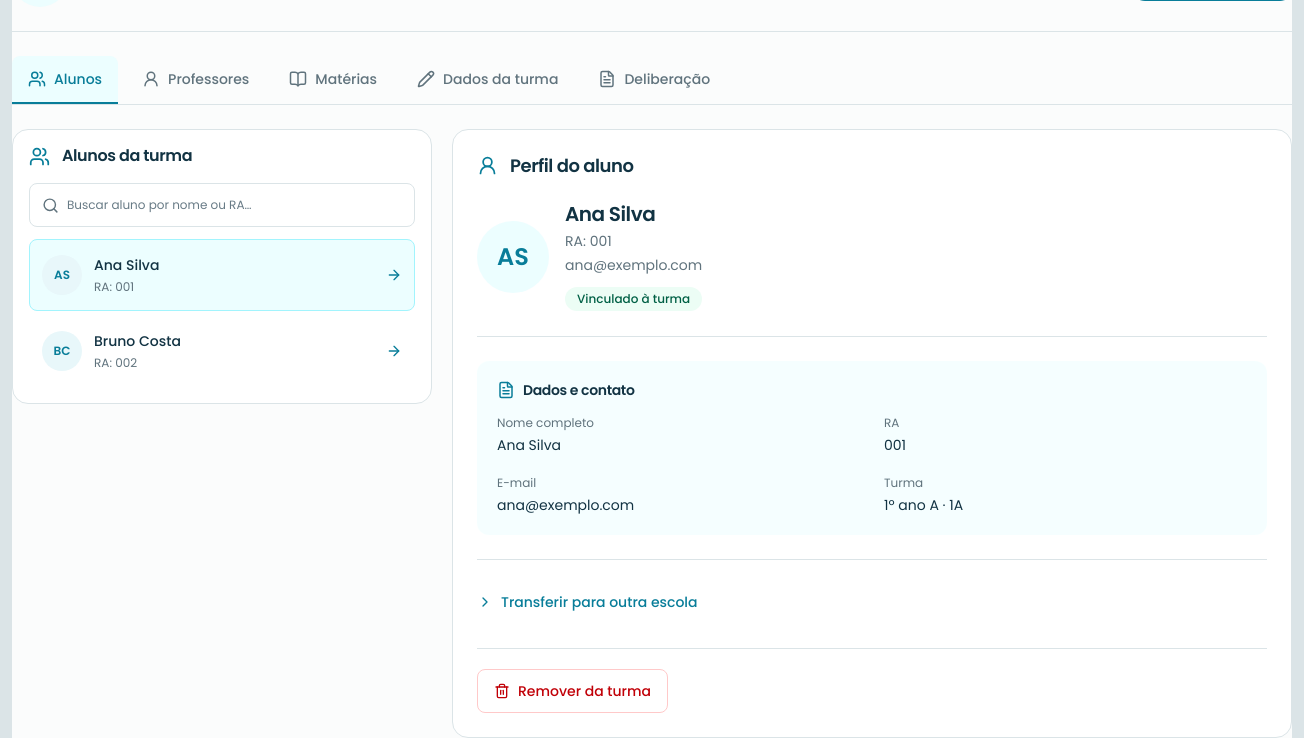
remove somente o vínculo do aluno selecionado e atualiza a lista
(page scrolled)
Click the button "Remover da turma". click: click(572, 691)
box: [477,669,668,713]
(page scrolled)
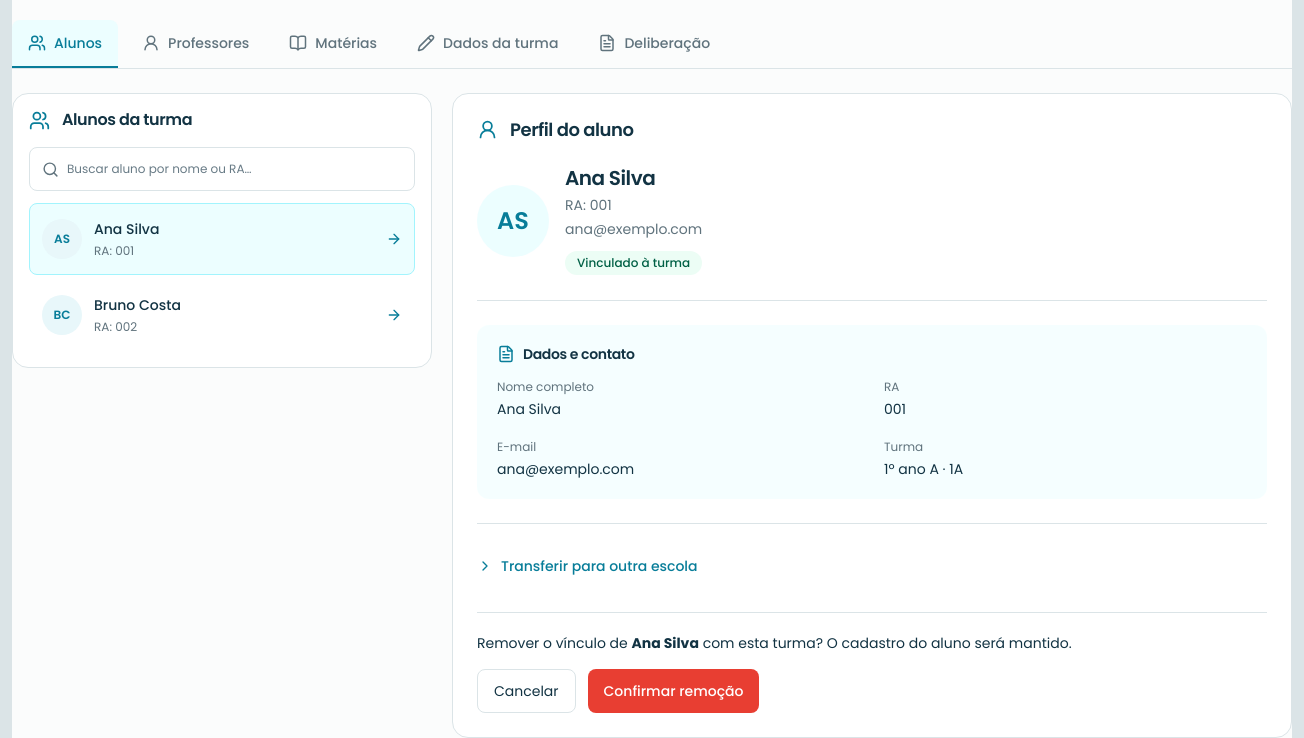
Click the button "Confirmar remoção". click: click(673, 691)
box: [588,669,759,713]
(page scrolled)
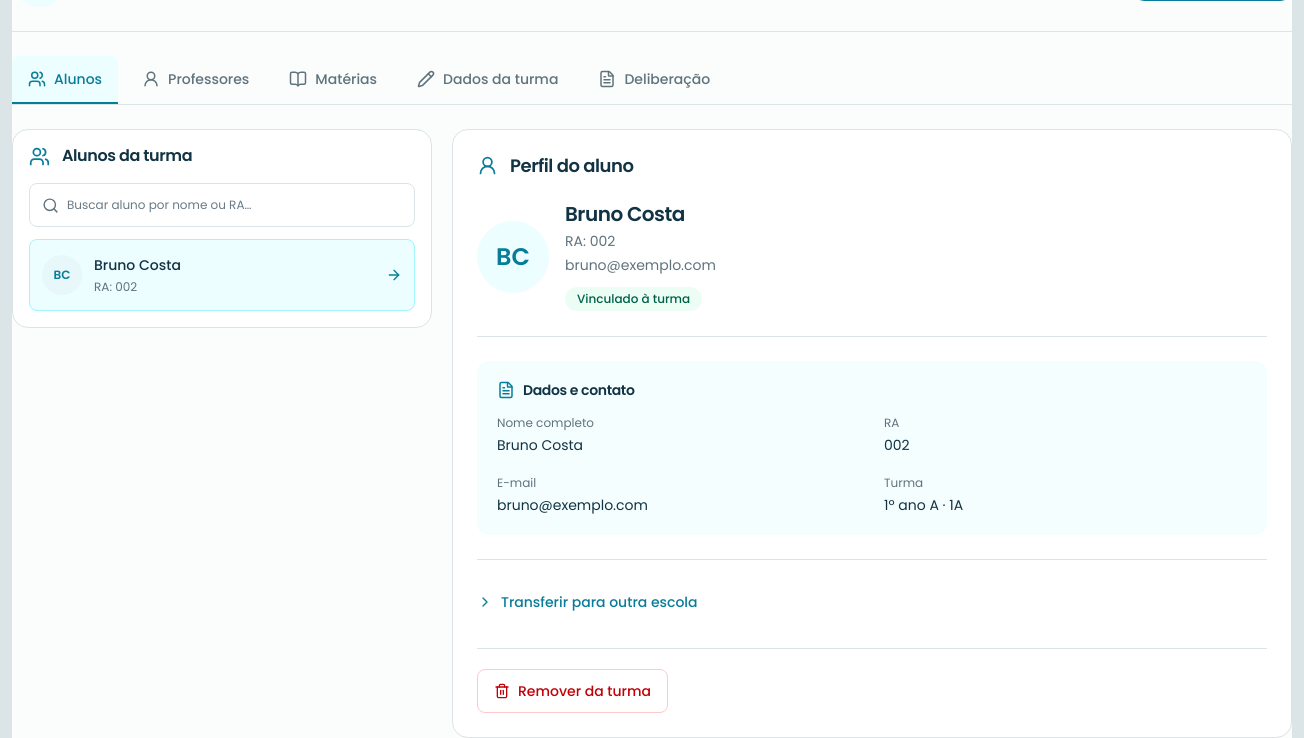
Result: the element named "Perfil de Bruno Costa" is shown at [452,129,1292,737]
Result: the button "Ana Silva" is gone
